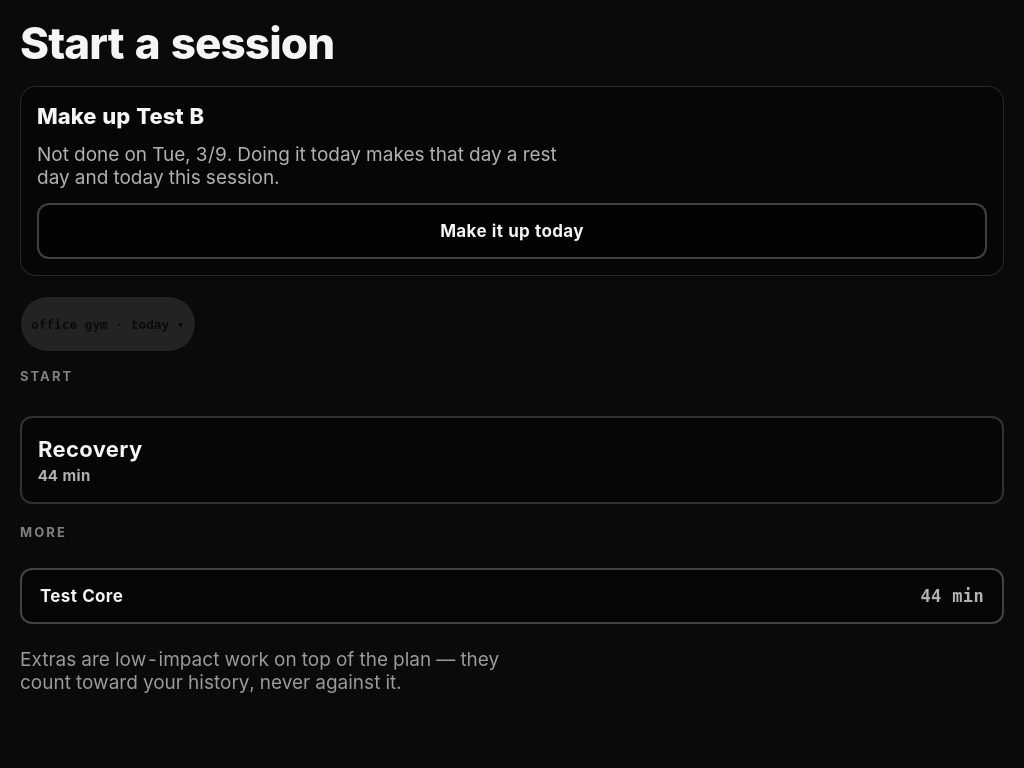
Test: makeup (MAKEUP-2) › shows the server's reason when the swap is refused
The width and height of the screenshot is (1024, 768).
Click the button "Make it up today": (512, 231) [37,203,987,259]
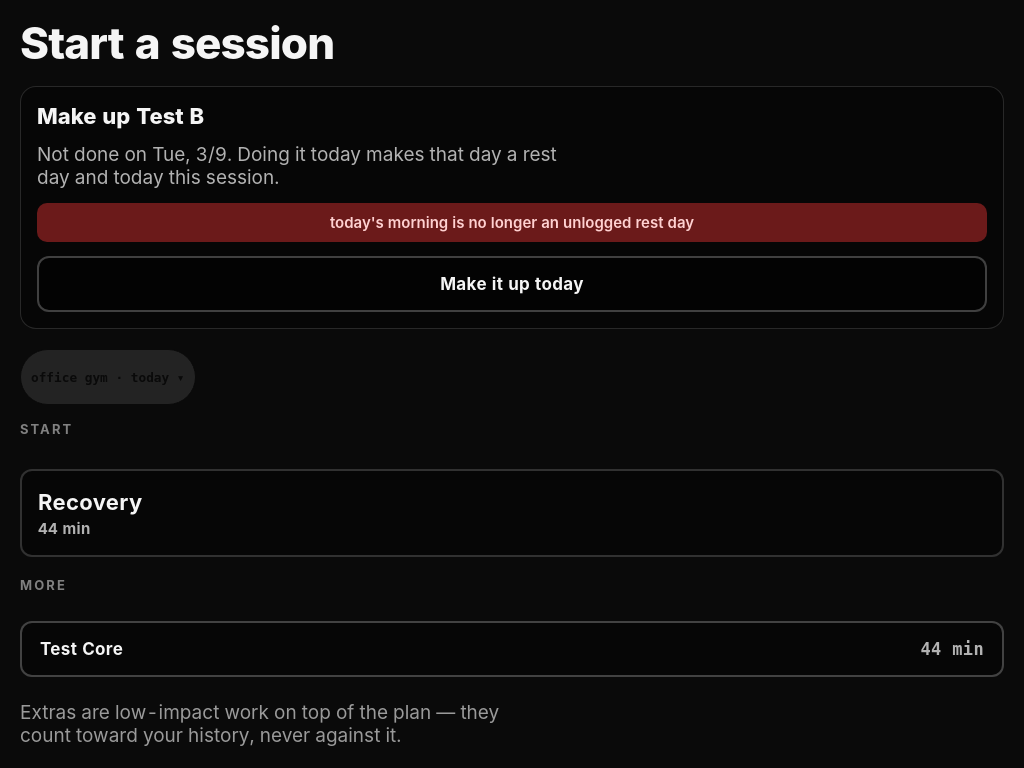
Now the text "today's morning is no longer an unlogged rest day" is shown, box [37,203,987,242]
